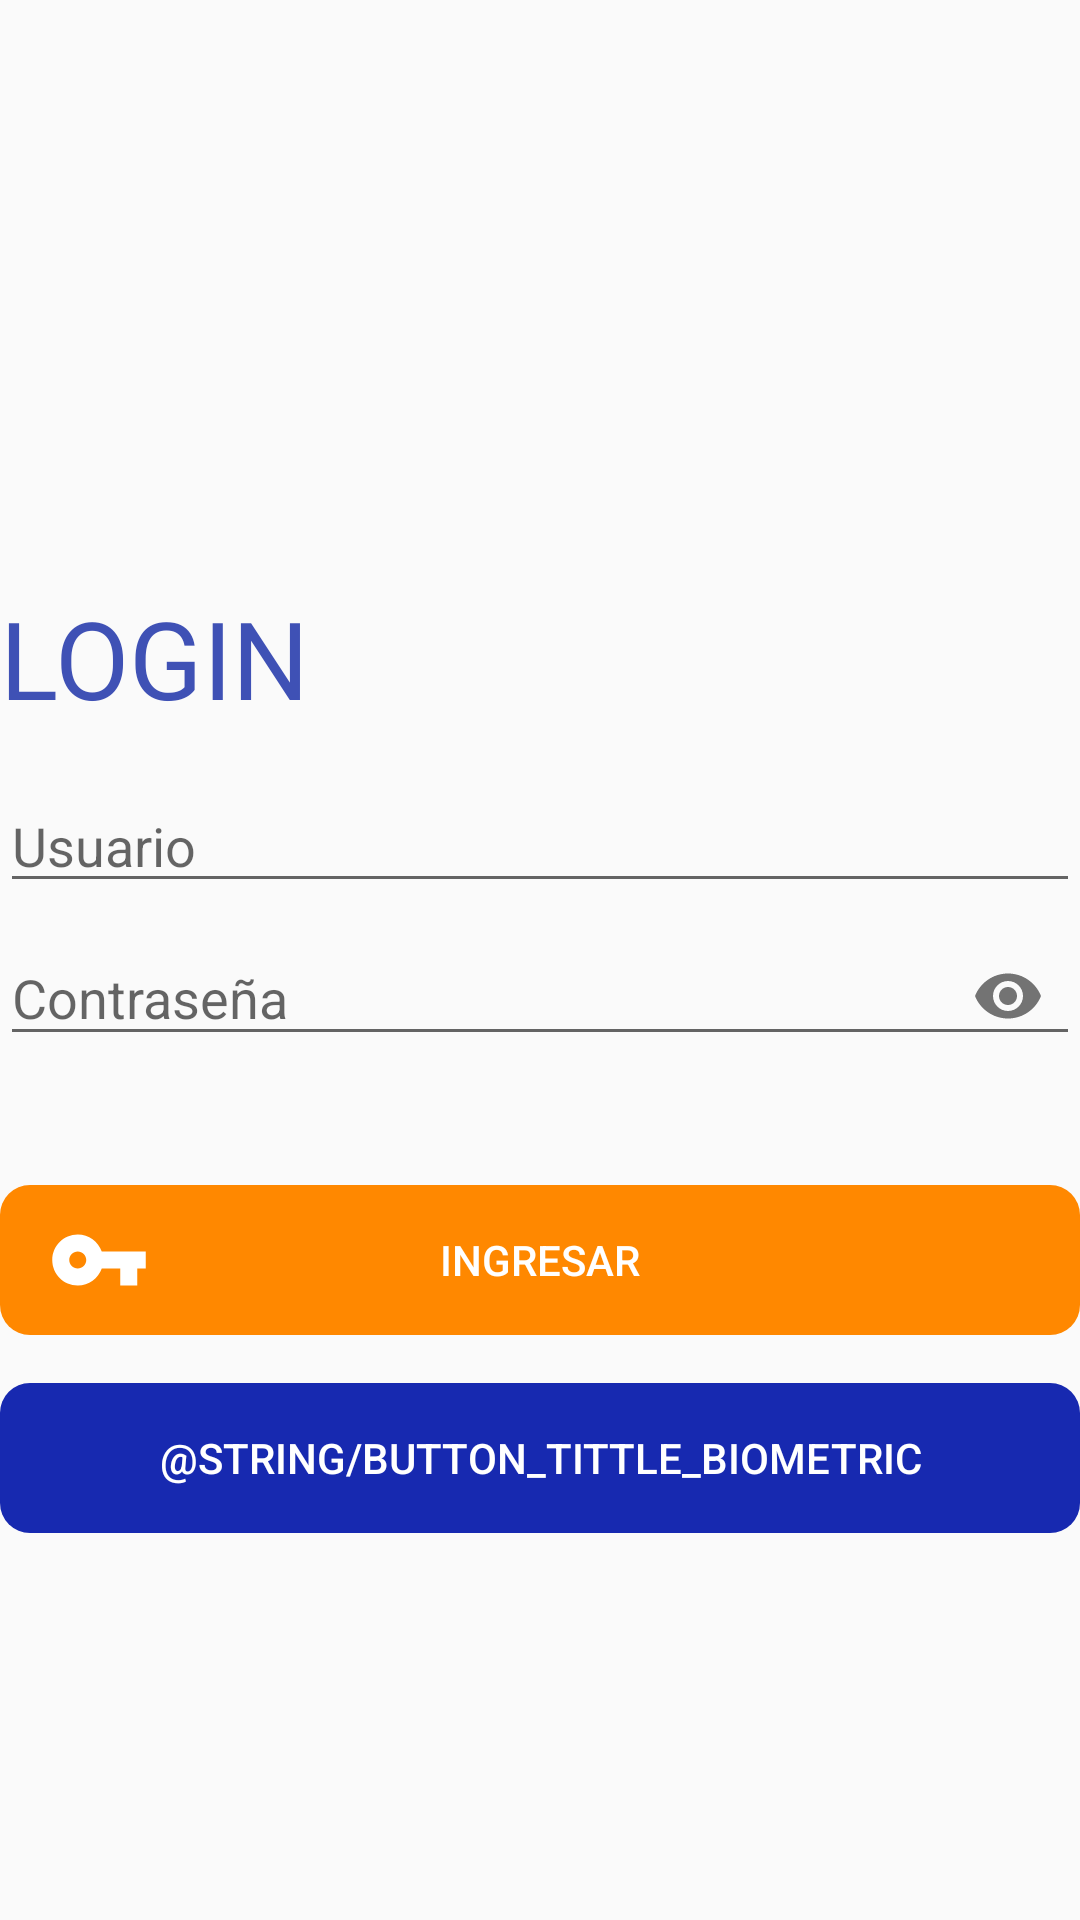

Icons on this 1080×1920 Android screen, each with the point to tap as [x,y]:
vpn key: [99,1260]
